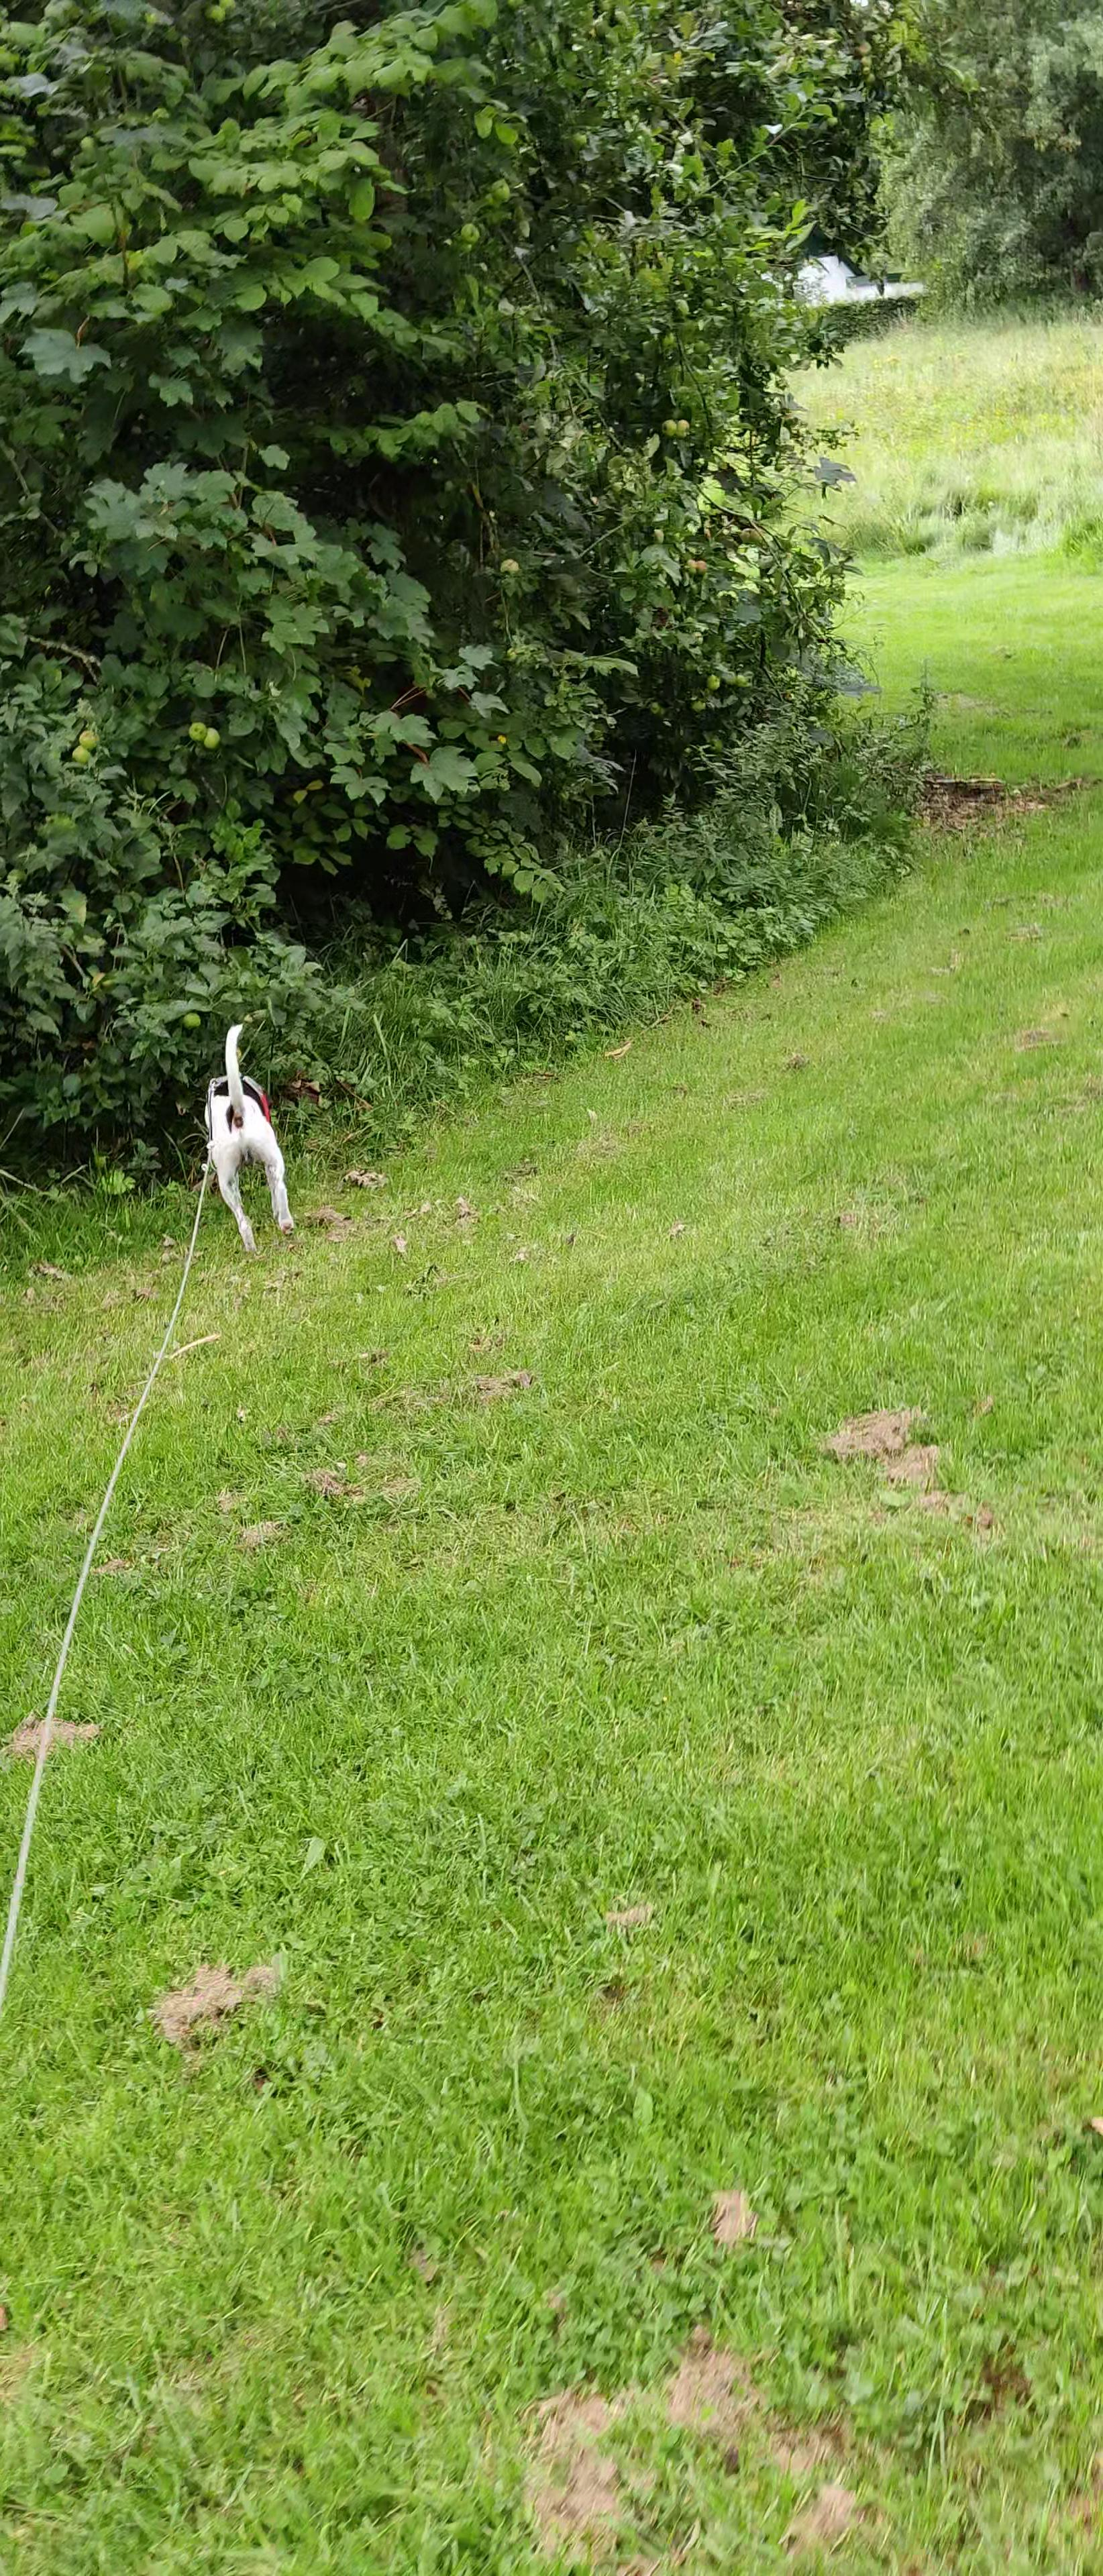Dog: (184, 1010, 314, 1265)
